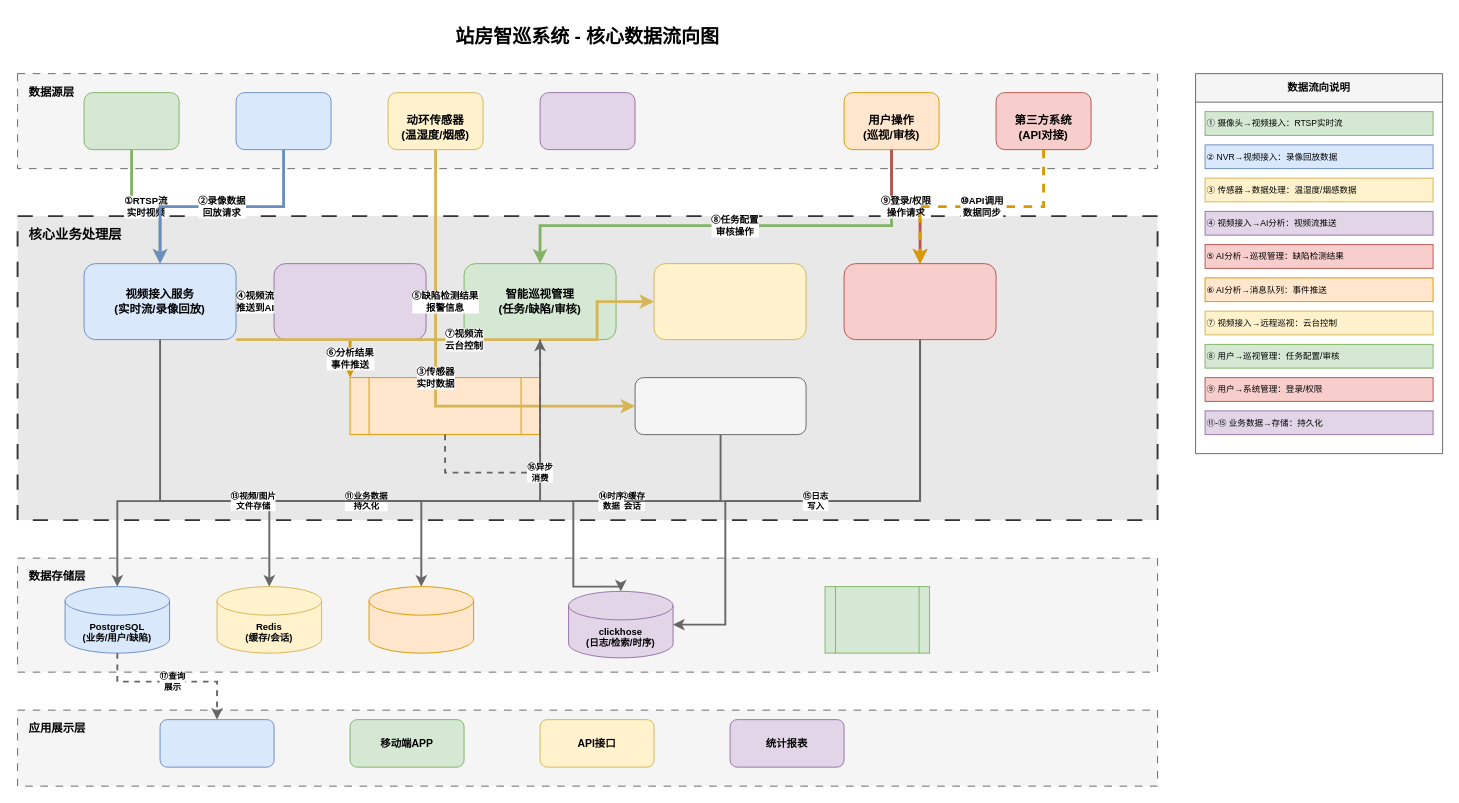
Some shapes in this 1459 by 803 pixel diagram are drawn without their labels. Here are the shapes that lost their labels. From the top down, the centre of each, then its label:
pixel 131 121: 摄像头 (RTSP流)
pixel 283 121: NVR设备 (录像存储)
pixel 587 121: AI算法服务器 (GPU推理)
pixel 349 301: AI智能分析引擎 (实时/录像分析)
pixel 729 301: 远程巡视管理 (计划/点位/控制)
pixel 919 301: 系统管理服务 (用户/权限/统计)
pixel 444 406: 数据总线 / 消息队列 (RabbitMQ)
pixel 720 406: 数据处理服务 (清洗/转换/聚合)
pixel 421 619: MinIO/OSS (视频/图片)
pixel 877 619: RabbitMQ (消息队列)
pixel 216 743: Web客户端
